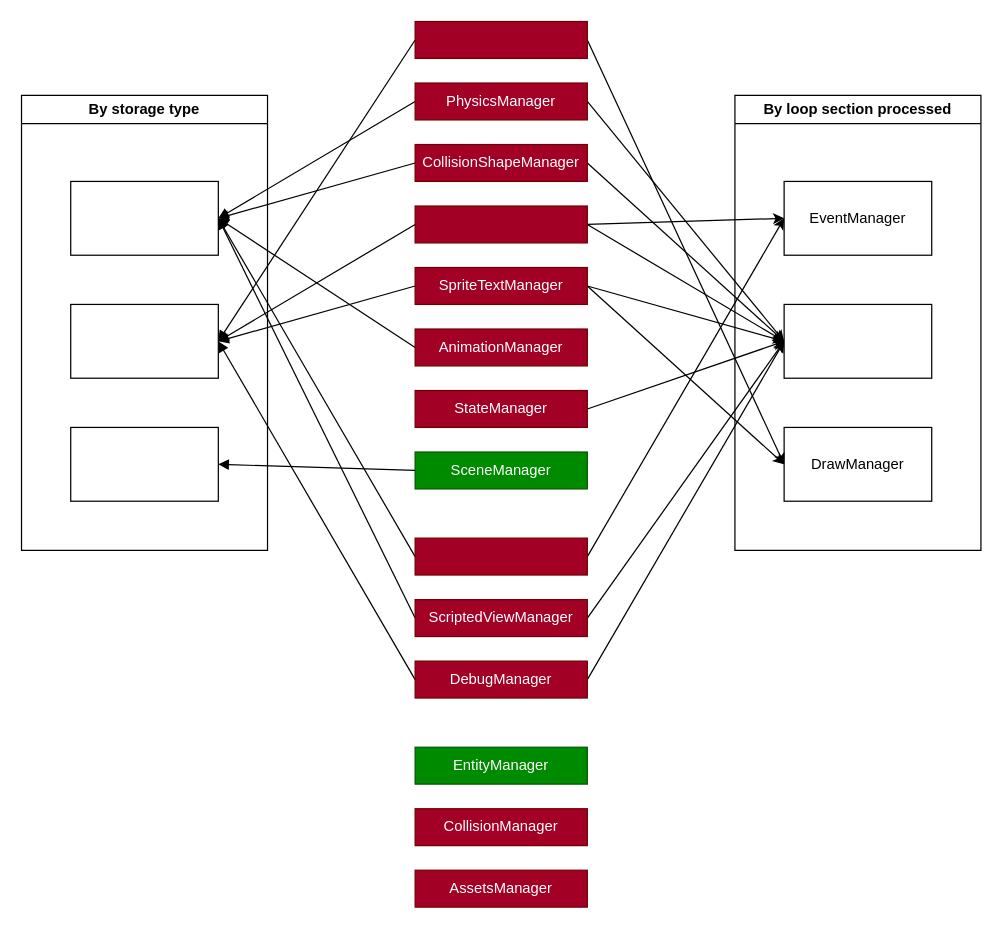
The diagram is 1002 pixels wide and 929 high, and some of its shapes have lost their labels. The shapes that lost their labels are listed below. From the top down, each one's centre as x and y in pixels, then its label:
the point at 500,39: SpriteManager
the point at 143,217: VectorManager
the point at 500,224: ClickableShapeManager
the point at 143,340: ViewManager
the point at 857,340: UpdateManager
the point at 143,463: LabelManager
the point at 500,556: ControllerManager
